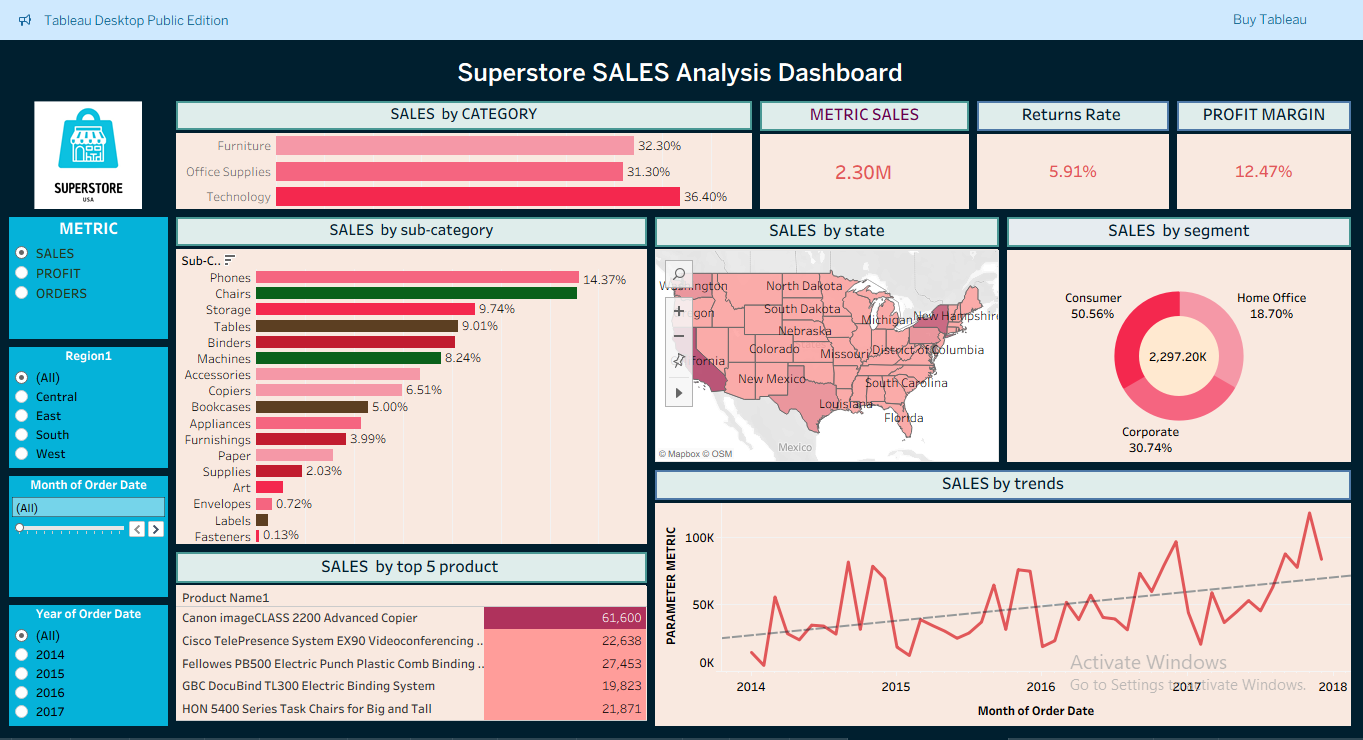

This screenshot's page, from the dashboard's own definition file:
{"tool":"tableau","page":{"name":"SAMPLE DASHBOARD","canvas":[1000,1000],"units":"permille","ordinal":1},"visuals":[{"type":"text","box":[6.9,14.5,986.1,70.4]},{"type":"image","param":"Image/image sam 1.jpg","box":[6.9,84.9,122.1,164.6]},{"type":"worksheet","title":"categ","mark":"Automatic","rows":["Category"],"cols":["Calculation_191684468491907076"],"box":[129,84.9,426.7,164.6]},{"type":"worksheet","title":"METRIC","mark":"Automatic","box":[555.6,84.9,158.5,164.6]},{"type":"worksheet","title":"return rate","mark":"Automatic","box":[714.1,84.9,146.3,164.6]},{"type":"worksheet","title":"profit margin","mark":"Automatic","box":[860.4,84.9,132.7,164.6]},{"type":"worksheet","title":"sub-cate","mark":"Automatic","rows":["Sub-Category"],"cols":["Calculation_191684468491907076"],"box":[129,249.5,349.6,476.4]},{"type":"worksheet","title":"state","mark":"Automatic","box":[478.6,249.5,257.1,360.4]},{"type":"worksheet","title":"seg DONUT","mark":"Pie","rows":["Calculation_191684468496130054","Calculation_191684468496142344"],"box":[735.6,249.5,257.4,360.4]},{"type":"parameter","param":"[Parameters].[Parameter 2]","box":[6.9,250,122.1,184.8]},{"type":"filter","title":"METRIC","param":"[federated.1fu1zzt0jwgsg214un93210rbnlb].[none:Region:nk]","box":[6.9,434.8,122.1,184.8]},{"type":"worksheet","title":"trend ","mark":"Automatic","rows":["Calculation_191684468491907076"],"cols":["Order Date"],"box":[478.6,609.9,514.5,375.6]},{"type":"filter","title":"METRIC","param":"[federated.1fu1zzt0jwgsg214un93210rbnlb].[mn:Order Date:ok]","box":[6.9,619.6,122.1,183]},{"type":"worksheet","title":"product","mark":"Square","rows":["Product Name"],"box":[129,726,349.6,259.5]},{"type":"filter","title":"METRIC","param":"[federated.1fu1zzt0jwgsg214un93210rbnlb].[yr:Order Date:ok]","box":[6.9,802.5,122.1,183]}]}

Visuals, with their boxes on the dashboard's canvas, which has no fixed pixel size, in thousandths of its width and height (x1, y1, x2, y2). These are canvas units, not pixel positions in the 1363x740 screenshot, which may show the page scaled, cropped or inside an application window:
text: x1=7, y1=14, x2=993, y2=85
image: x1=7, y1=85, x2=129, y2=250
"categ" worksheet: x1=129, y1=85, x2=556, y2=250
"METRIC" worksheet: x1=556, y1=85, x2=714, y2=250
"return rate" worksheet: x1=714, y1=85, x2=860, y2=250
"profit margin" worksheet: x1=860, y1=85, x2=993, y2=250
"sub-cate" worksheet: x1=129, y1=250, x2=479, y2=726
"state" worksheet: x1=479, y1=250, x2=736, y2=610
"seg DONUT" worksheet (Pie marks): x1=736, y1=250, x2=993, y2=610
parameter: x1=7, y1=250, x2=129, y2=435
"METRIC" filter: x1=7, y1=435, x2=129, y2=620
"trend " worksheet: x1=479, y1=610, x2=993, y2=986
"METRIC" filter: x1=7, y1=620, x2=129, y2=803
"product" worksheet (Square marks): x1=129, y1=726, x2=479, y2=986
"METRIC" filter: x1=7, y1=802, x2=129, y2=986
